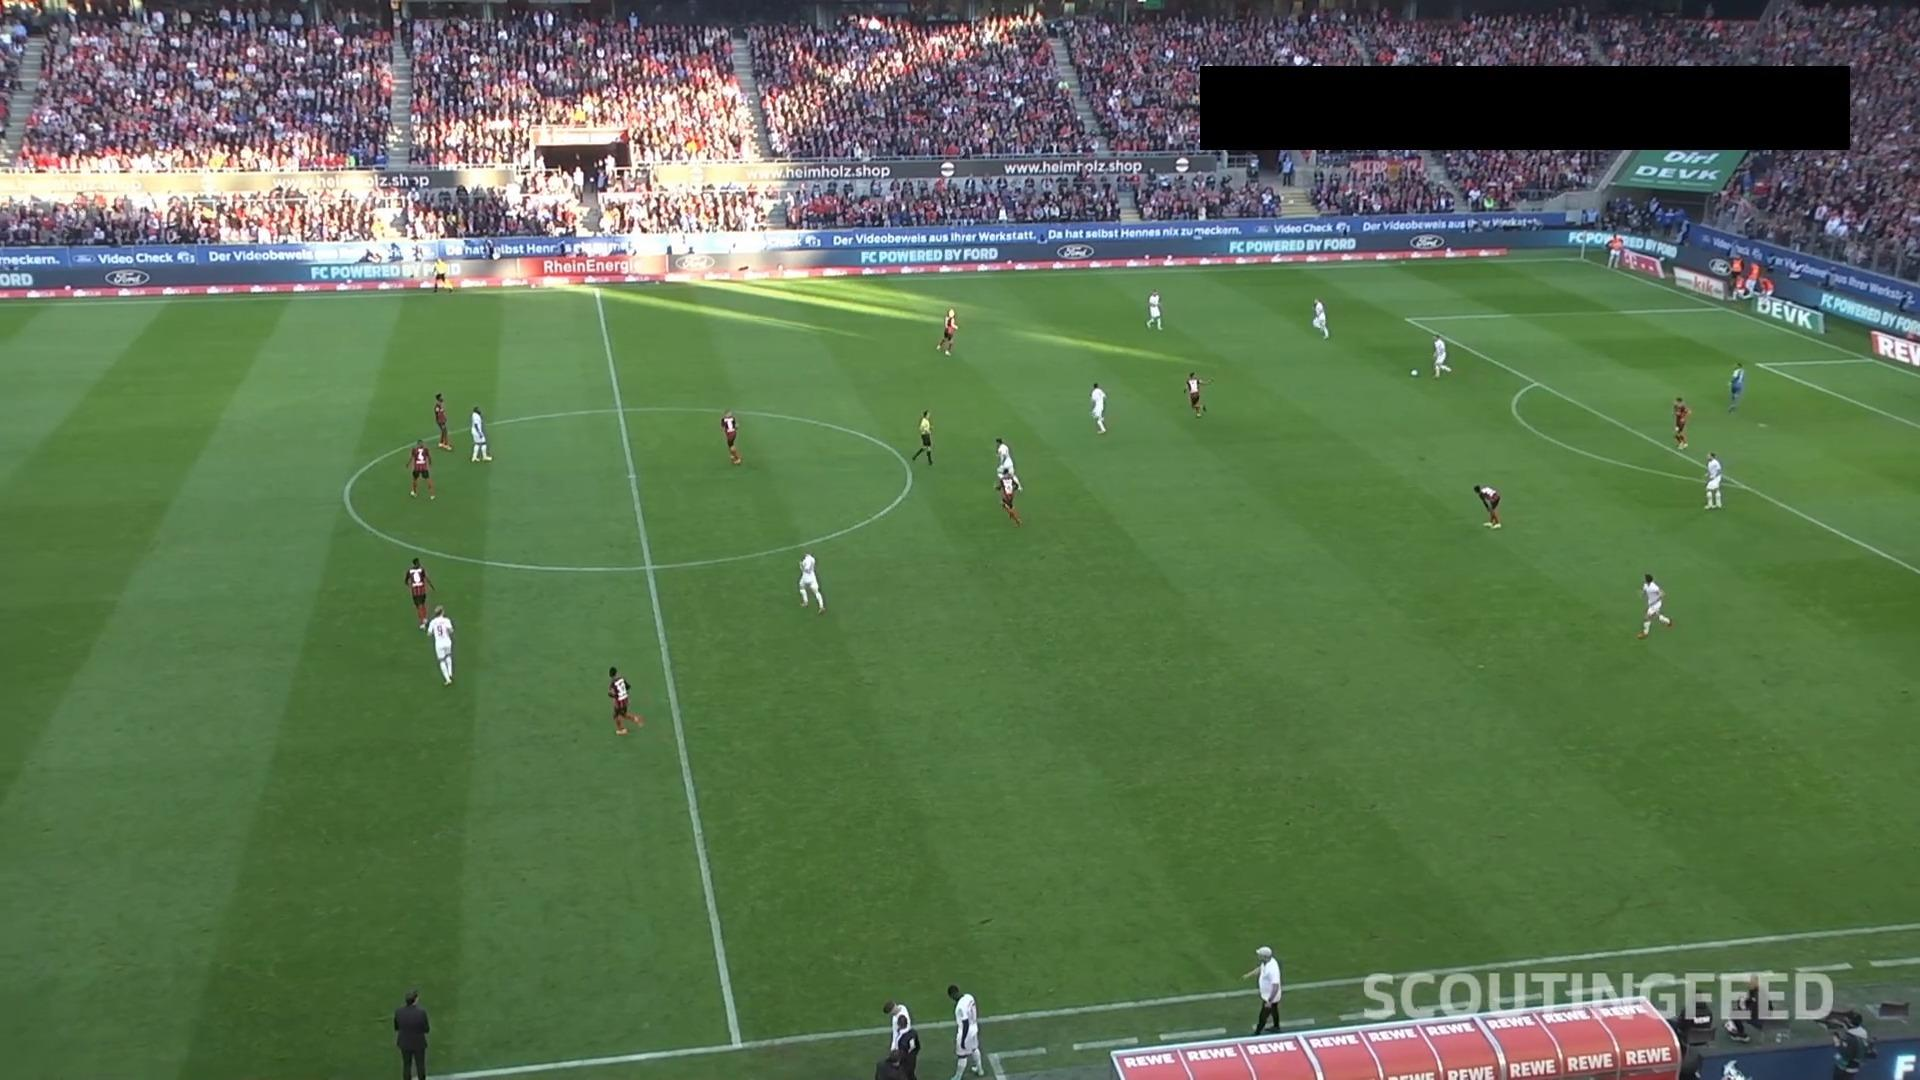ball: (1411, 369, 1419, 377)
